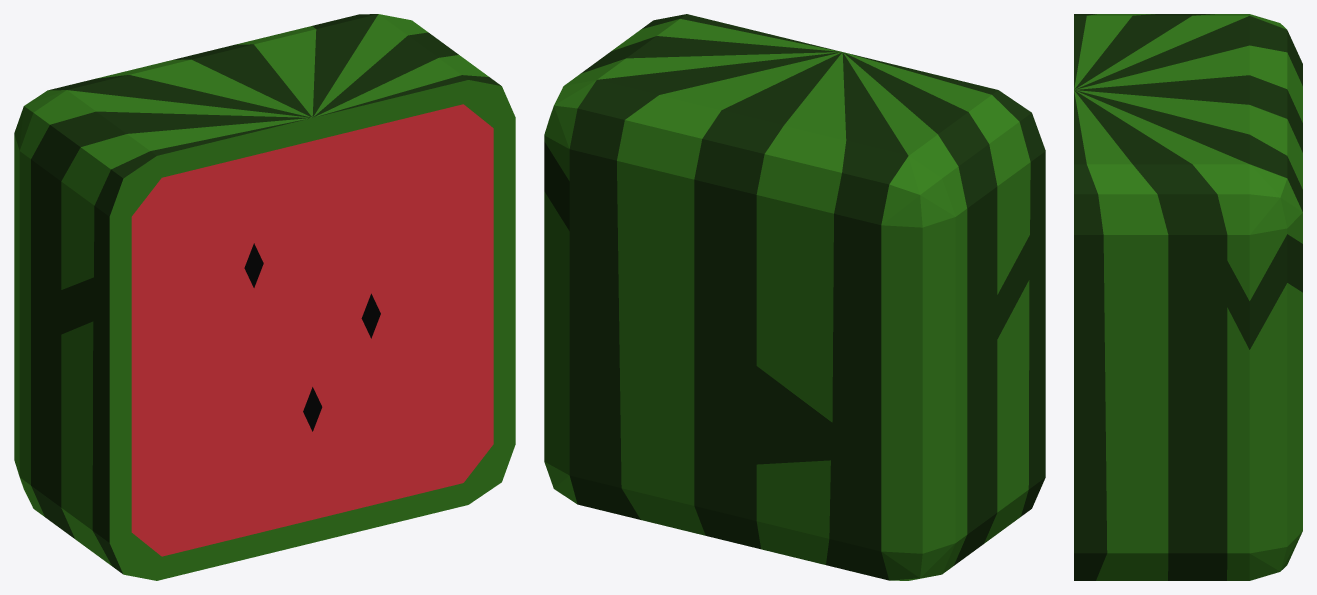
File: watermelon.fbx
The picture shows the model from 3 angles, left to right: view 1: azimuth 30°, elevation 25°; view 2: azimuth 150°, elevation 25°; view 3: azimuth 270°, elevation 25°; orthographic projection. The views are drawn at different scales.
Visible parts, largest first — view 1: Куб.022; view 2: Куб.022; view 3: Куб.022.
Part boxes in pixels (<box>): Куб.022: <box>14,14,515,580</box>; Куб.022: <box>544,14,1045,580</box>; Куб.022: <box>1074,14,1302,580</box>.
Bounding box in the file's own units: 10.58 × 10.58 × 5.29.
